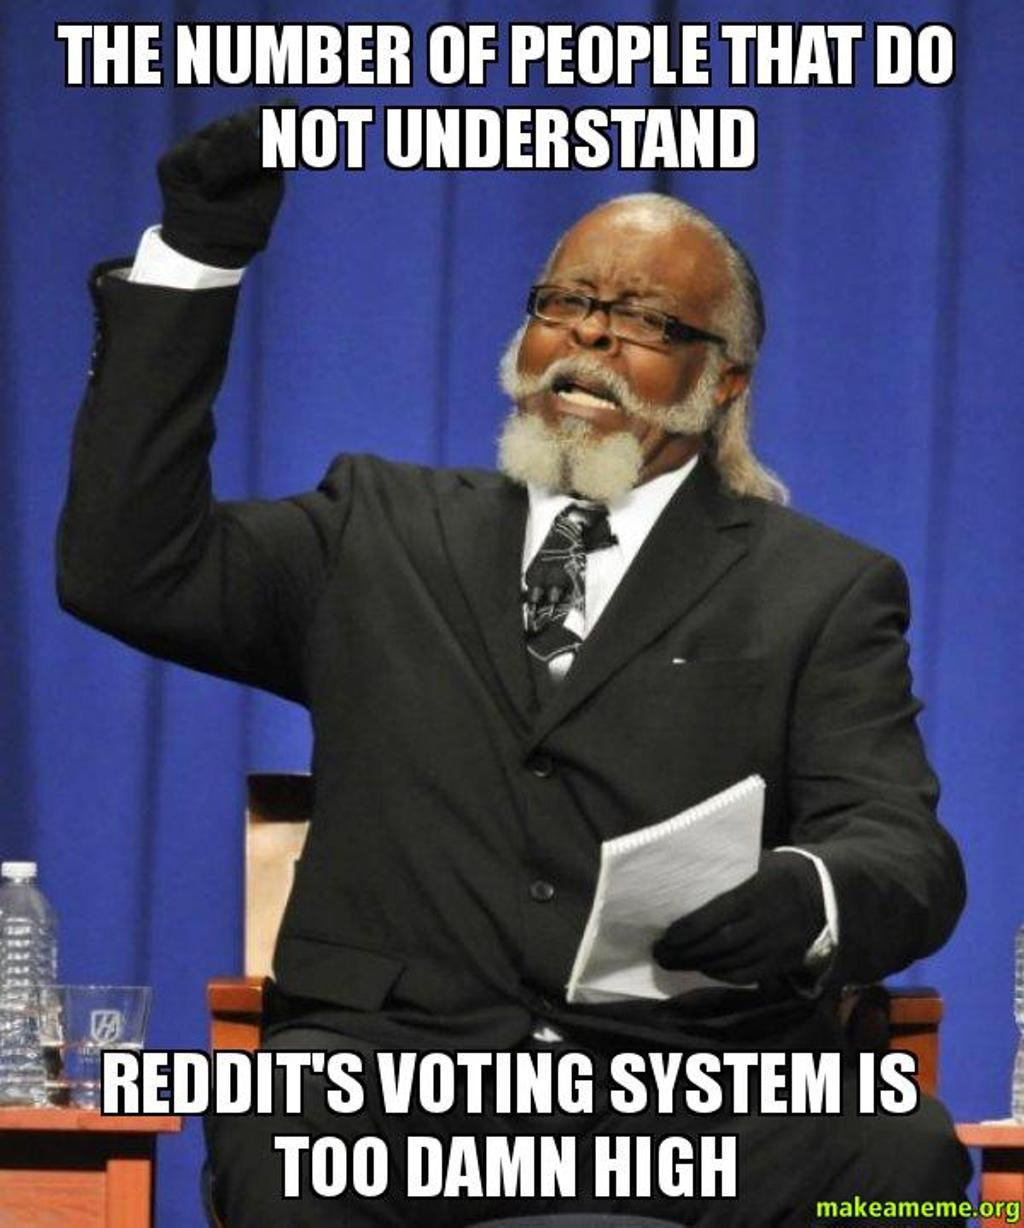face: (524, 207, 730, 466)
